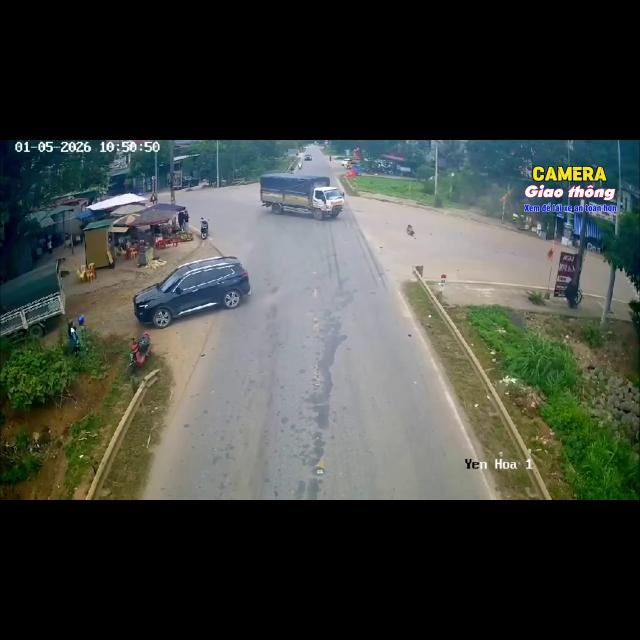car: (134, 257, 250, 328), (341, 159, 350, 166), (304, 154, 312, 160)
motorcycle: (127, 332, 150, 375), (201, 218, 208, 239), (298, 162, 302, 170)
truck: (0, 261, 64, 336), (260, 174, 344, 220)
